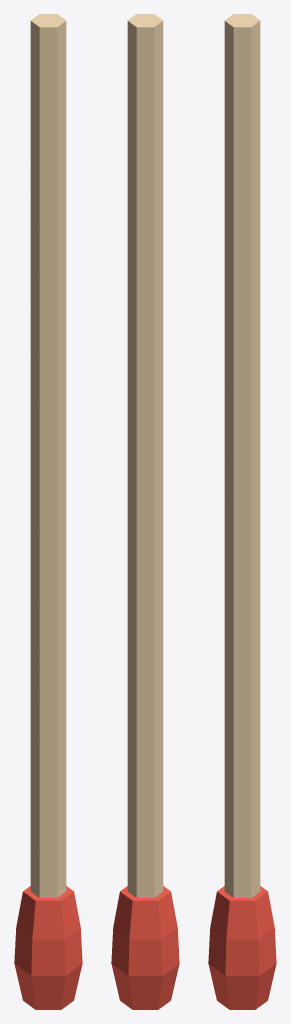
The model's file is Stick_Teacher.fbx.
3 views of the same model, side by side, from view 1: azimuth 30°, elevation 25°; view 2: azimuth 150°, elevation 25°; view 3: azimuth 330°, elevation 25° (orthographic).
Parts seen in each view (by area): view 1: Cylinder.001; view 2: Cylinder.001; view 3: Cylinder.001.
Part boxes in pixels (left/top/right/bottom): Cylinder.001: left=14, top=14, right=82, bottom=1009; Cylinder.001: left=111, top=14, right=179, bottom=1009; Cylinder.001: left=208, top=14, right=276, bottom=1009.
Bounding box in the file's own units: 0.6959 × 12.73 × 0.8035.
